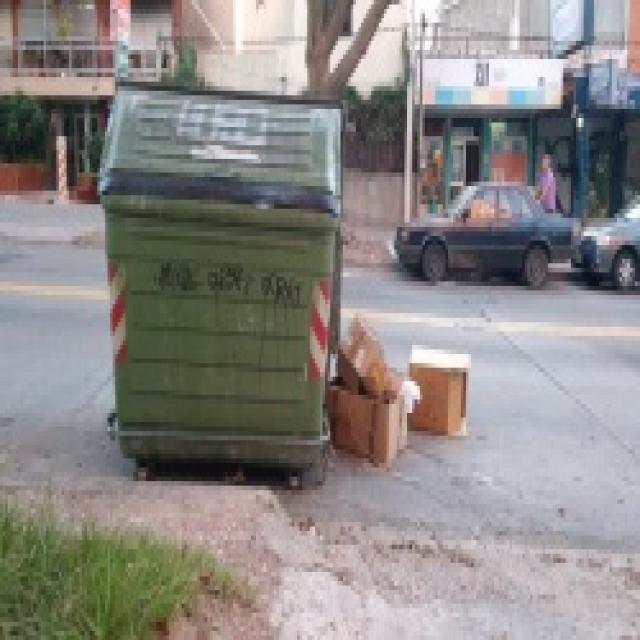garbage: (327, 313, 470, 468)
